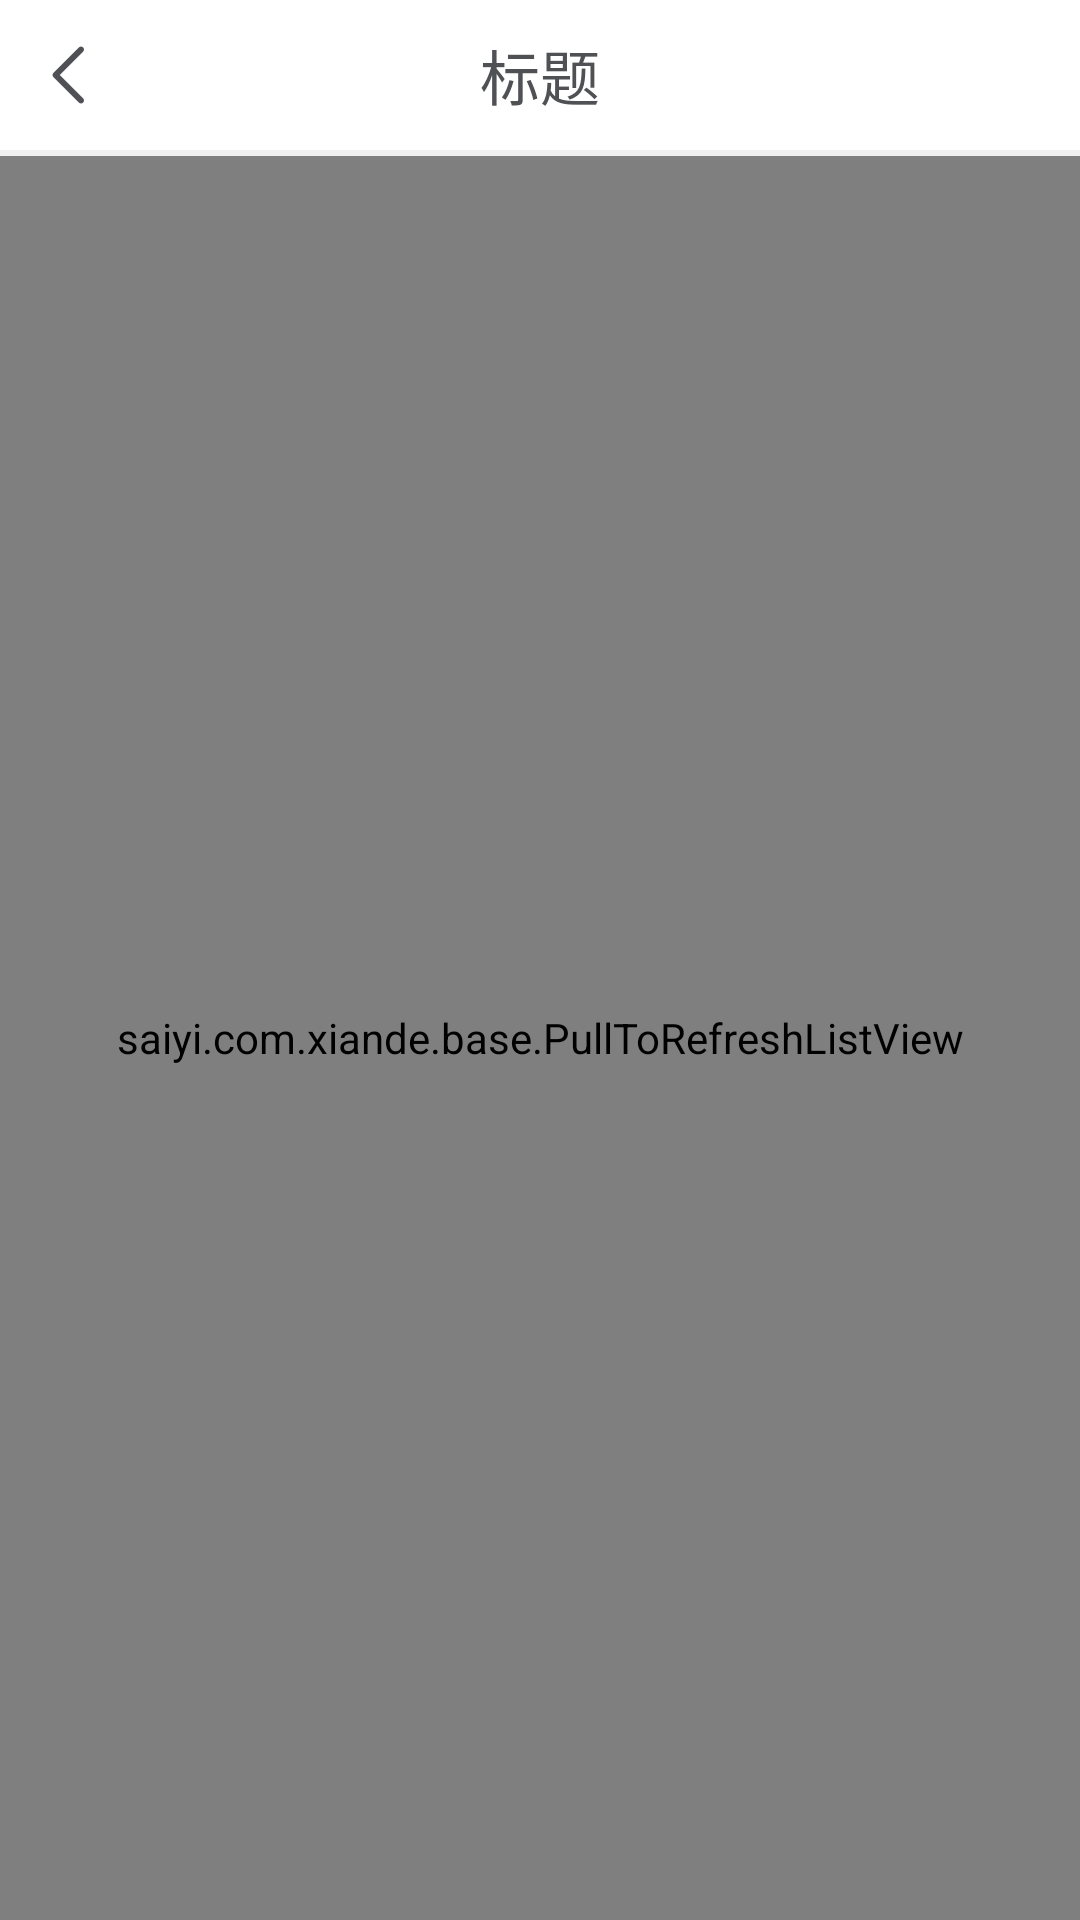

Named icons in this screenshot (1080 x 1920) and their centers, [x,y]:
back: [68,75]
